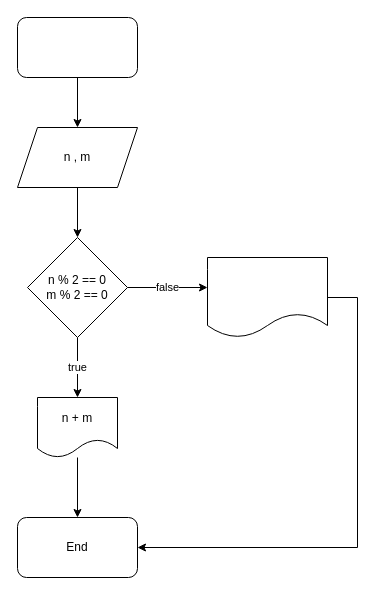
Some shapes in this 383 by 595 pixel diagram are drawn without their labels. Each missing label, with the centre of its shape:
n ve ya m cut eded deyil: point 267,297
Start: point 77,47
